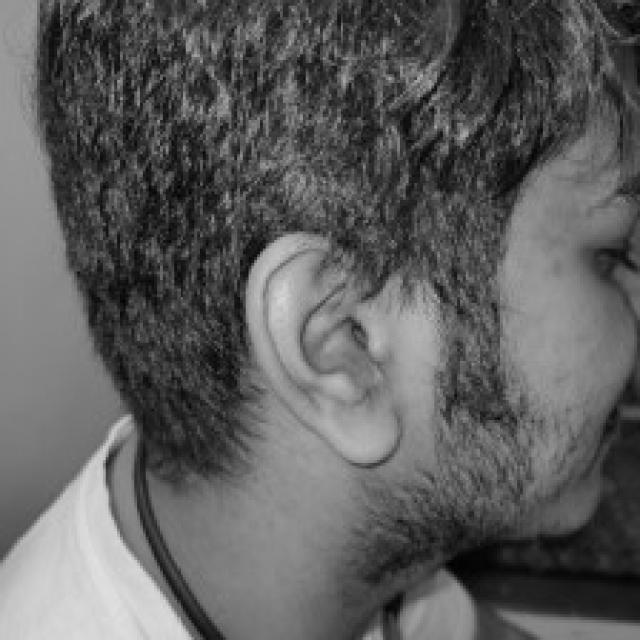ear: (246, 231, 400, 457)
